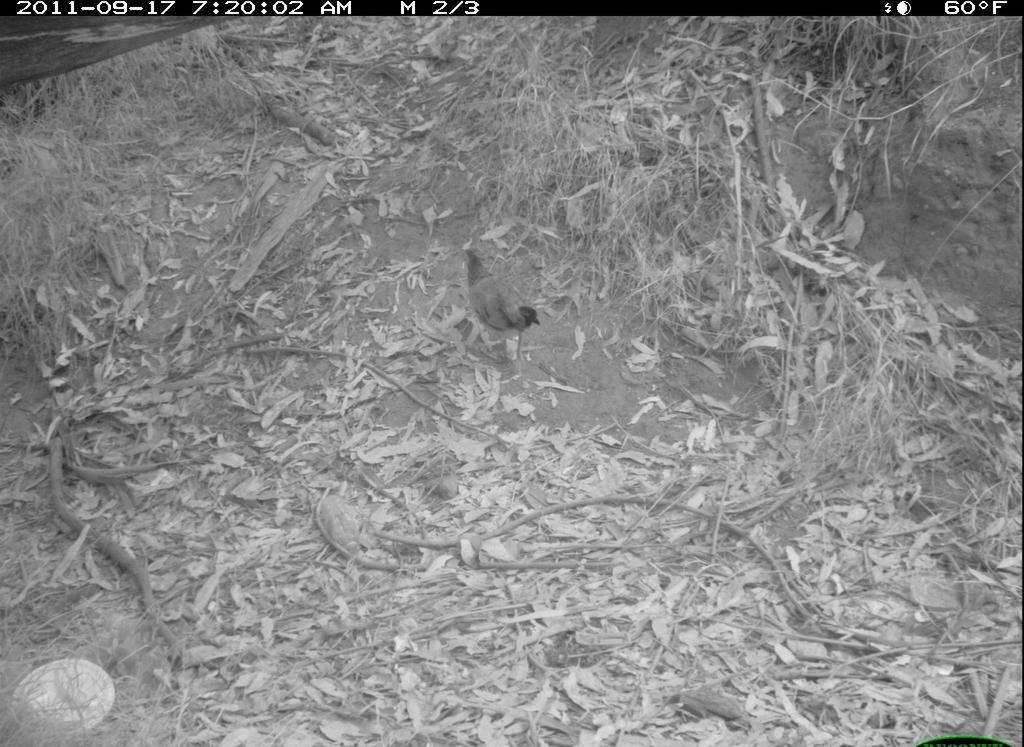bird: (458, 241, 550, 369)
